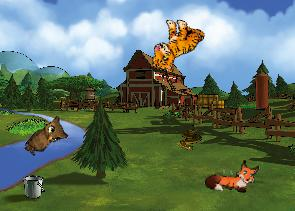fox: (204, 155, 260, 196)
owl: (22, 112, 73, 165)
tiger: (148, 14, 206, 78)
